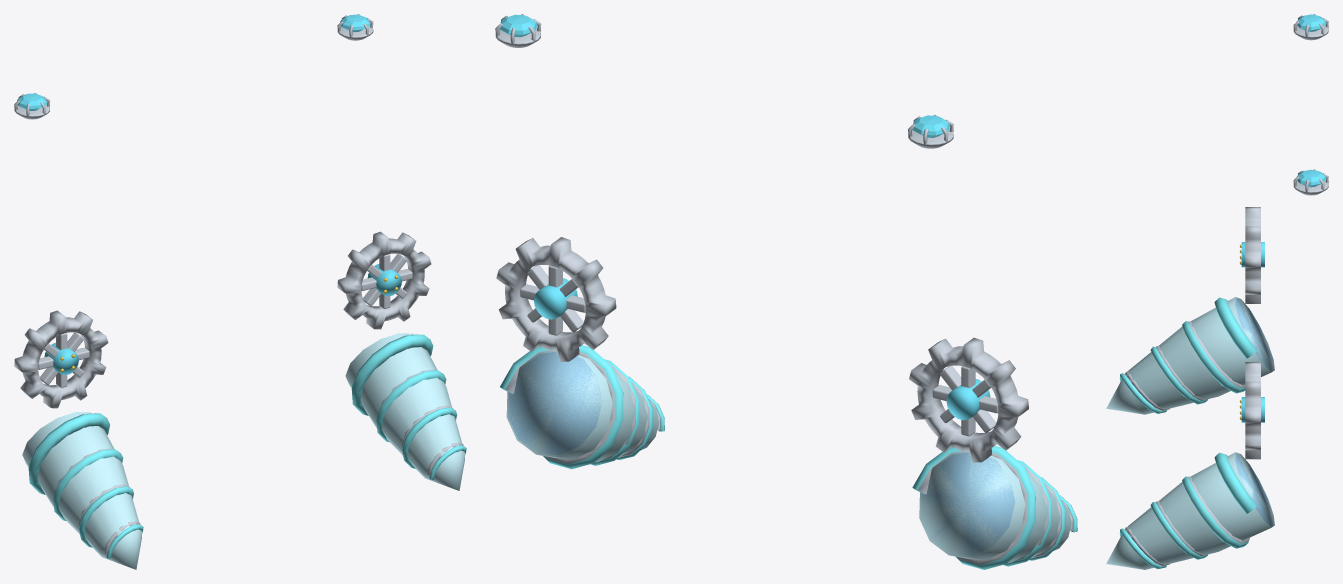
The model's file is IceDrill_T3_Upgrades.fbx.
3 views of the same model, side by side, from view 1: azimuth 30°, elevation 25°; view 2: azimuth 150°, elevation 25°; view 3: azimuth 270°, elevation 25° (orthographic). The views are drawn at different scales.
Parts seen in each view (by area): view 1: IceDrillT3U5BitB, IceDrillT3U5BitA, IceDrillT3U3Gear1, IceDrillT3U3Gear2, IceDrillT3U5BitAGlow, IceDrillT3U5BitBGlow; view 2: IceDrillT3U3Gear1, IceDrillT3U3Gear2, IceDrillT3U1BitB, IceDrillT3U5BitA, IceDrillT3U1BitA, IceDrillT3U5BitB, IceDrillT3U5BitBGlow, IceDrillT3U5BitAGlow; view 3: IceDrillT3U5BitB, IceDrillT3U5BitA, IceDrillT3U5BitBGlow, IceDrillT3U5BitAGlow, IceDrillT3U3Gear2, IceDrillT3U3Gear1, IceDrillT3U1BitA, IceDrillT3U1BitB, IceDrillT3U2Lamp2, IceDrillT3U2Lamp1, IceDrillT3U2Lamp2Glow, IceDrillT3U2Lamp1Glow.
Boxes of the visible parts, x1,y1,x2,y2 form: IceDrillT3U5BitB: (345, 333, 465, 490); IceDrillT3U5BitA: (22, 412, 141, 569); IceDrillT3U3Gear1: (14, 310, 108, 408); IceDrillT3U3Gear2: (337, 231, 431, 329); IceDrillT3U5BitAGlow: (28, 413, 143, 558); IceDrillT3U5BitBGlow: (351, 334, 466, 479); IceDrillT3U3Gear1: (909, 337, 1028, 462); IceDrillT3U3Gear2: (496, 237, 616, 361); IceDrillT3U1BitB: (505, 350, 660, 464); IceDrillT3U5BitA: (919, 451, 1071, 563); IceDrillT3U1BitA: (918, 451, 1073, 564); IceDrillT3U5BitB: (506, 350, 659, 462); IceDrillT3U5BitBGlow: (500, 345, 664, 469); IceDrillT3U5BitAGlow: (912, 446, 1077, 569); IceDrillT3U5BitB: (1106, 452, 1274, 569); IceDrillT3U5BitA: (1106, 297, 1274, 414); IceDrillT3U5BitBGlow: (1119, 452, 1256, 569); IceDrillT3U5BitAGlow: (1119, 297, 1256, 413); IceDrillT3U3Gear2: (1239, 362, 1264, 459); IceDrillT3U3Gear1: (1239, 207, 1264, 303); IceDrillT3U1BitA: (1125, 298, 1273, 410); IceDrillT3U1BitB: (1125, 453, 1273, 566); IceDrillT3U2Lamp2: (1293, 169, 1328, 195); IceDrillT3U2Lamp1: (1293, 14, 1328, 40); IceDrillT3U2Lamp2Glow: (1296, 169, 1326, 187); IceDrillT3U2Lamp1Glow: (1296, 14, 1326, 31).
Size of the model in its own units: 326 by 304 by 156.
